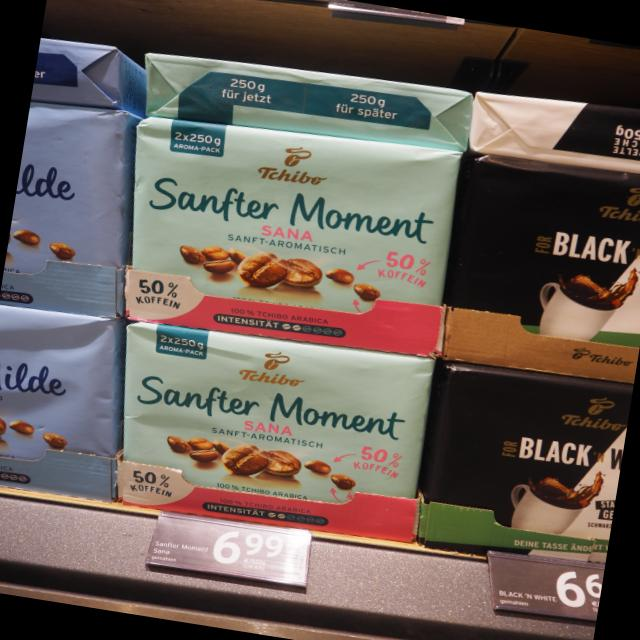SM Gemahlen: (121, 111, 469, 359), (115, 316, 440, 548)
